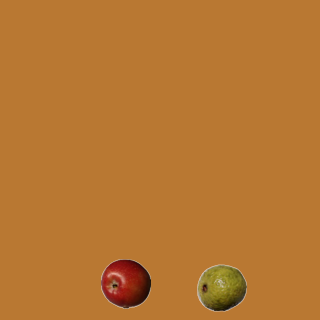Apple Braeburn: (100, 258, 150, 308)
Guava: (196, 262, 246, 312)
